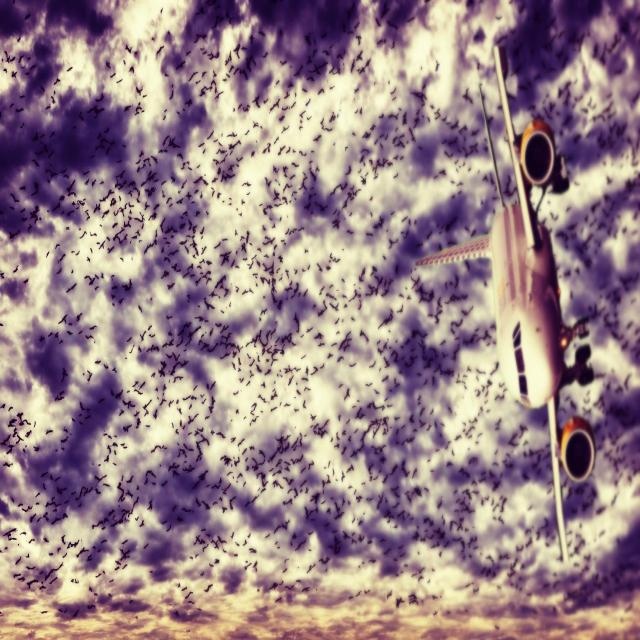airplane: (413, 43, 596, 563)
